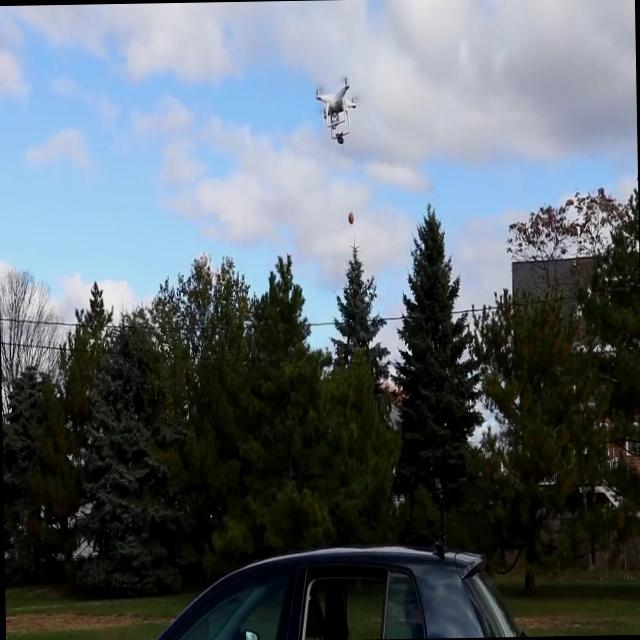drone: (312, 72, 360, 144)
